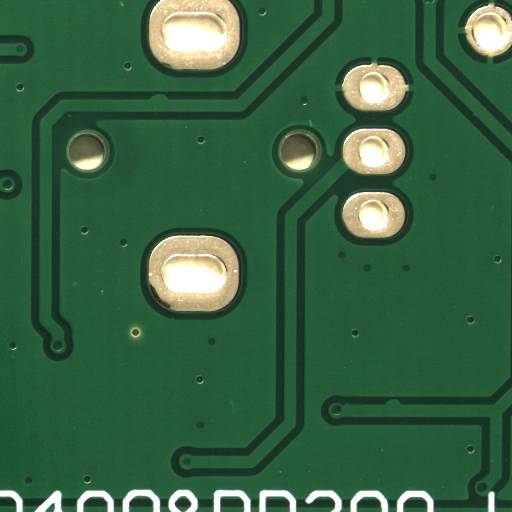Spur: (157, 97, 178, 104), (392, 400, 409, 408)
